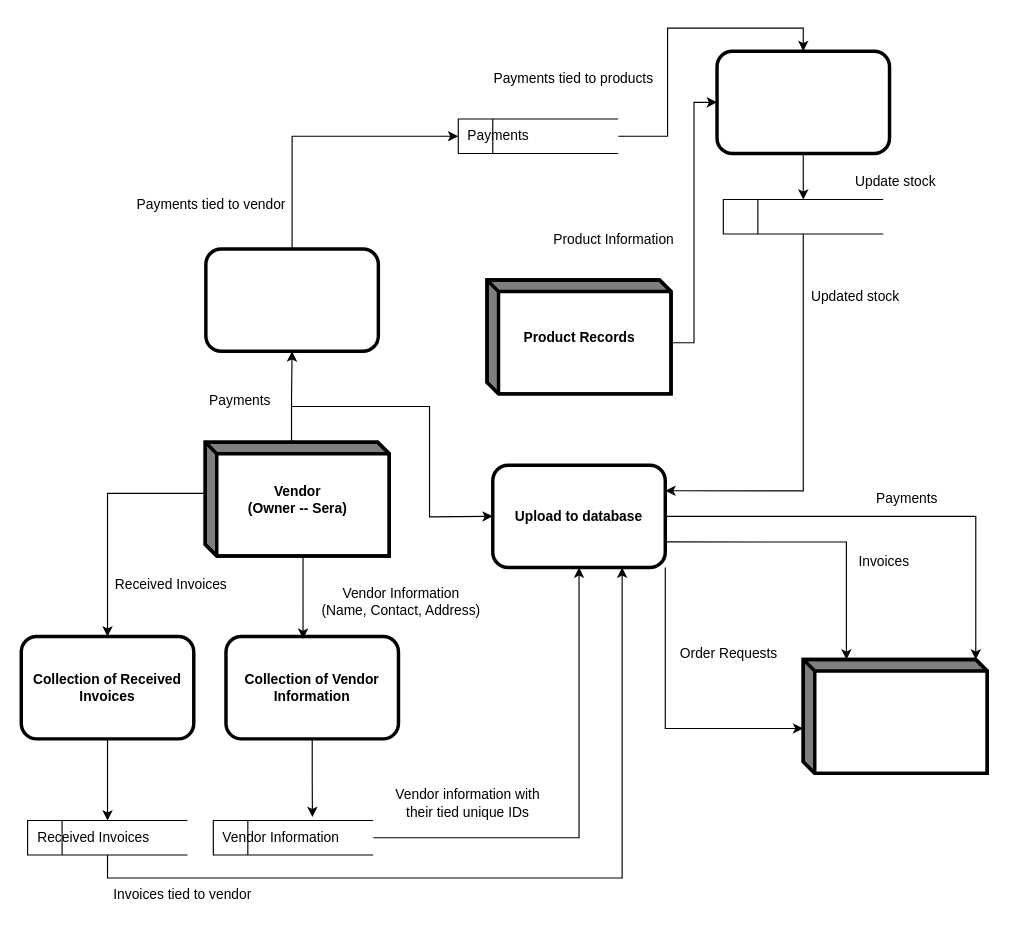
Image size: 1009x933. Some labels were removed from this diagram. The centre of each missing label's shape, as x and y in pixels:
"Collection of Payments" goes at (291,299).
"Customer (Agents)" goes at (894,716).
"Product List" goes at (802,216).
"Update product list" goes at (803,102).
